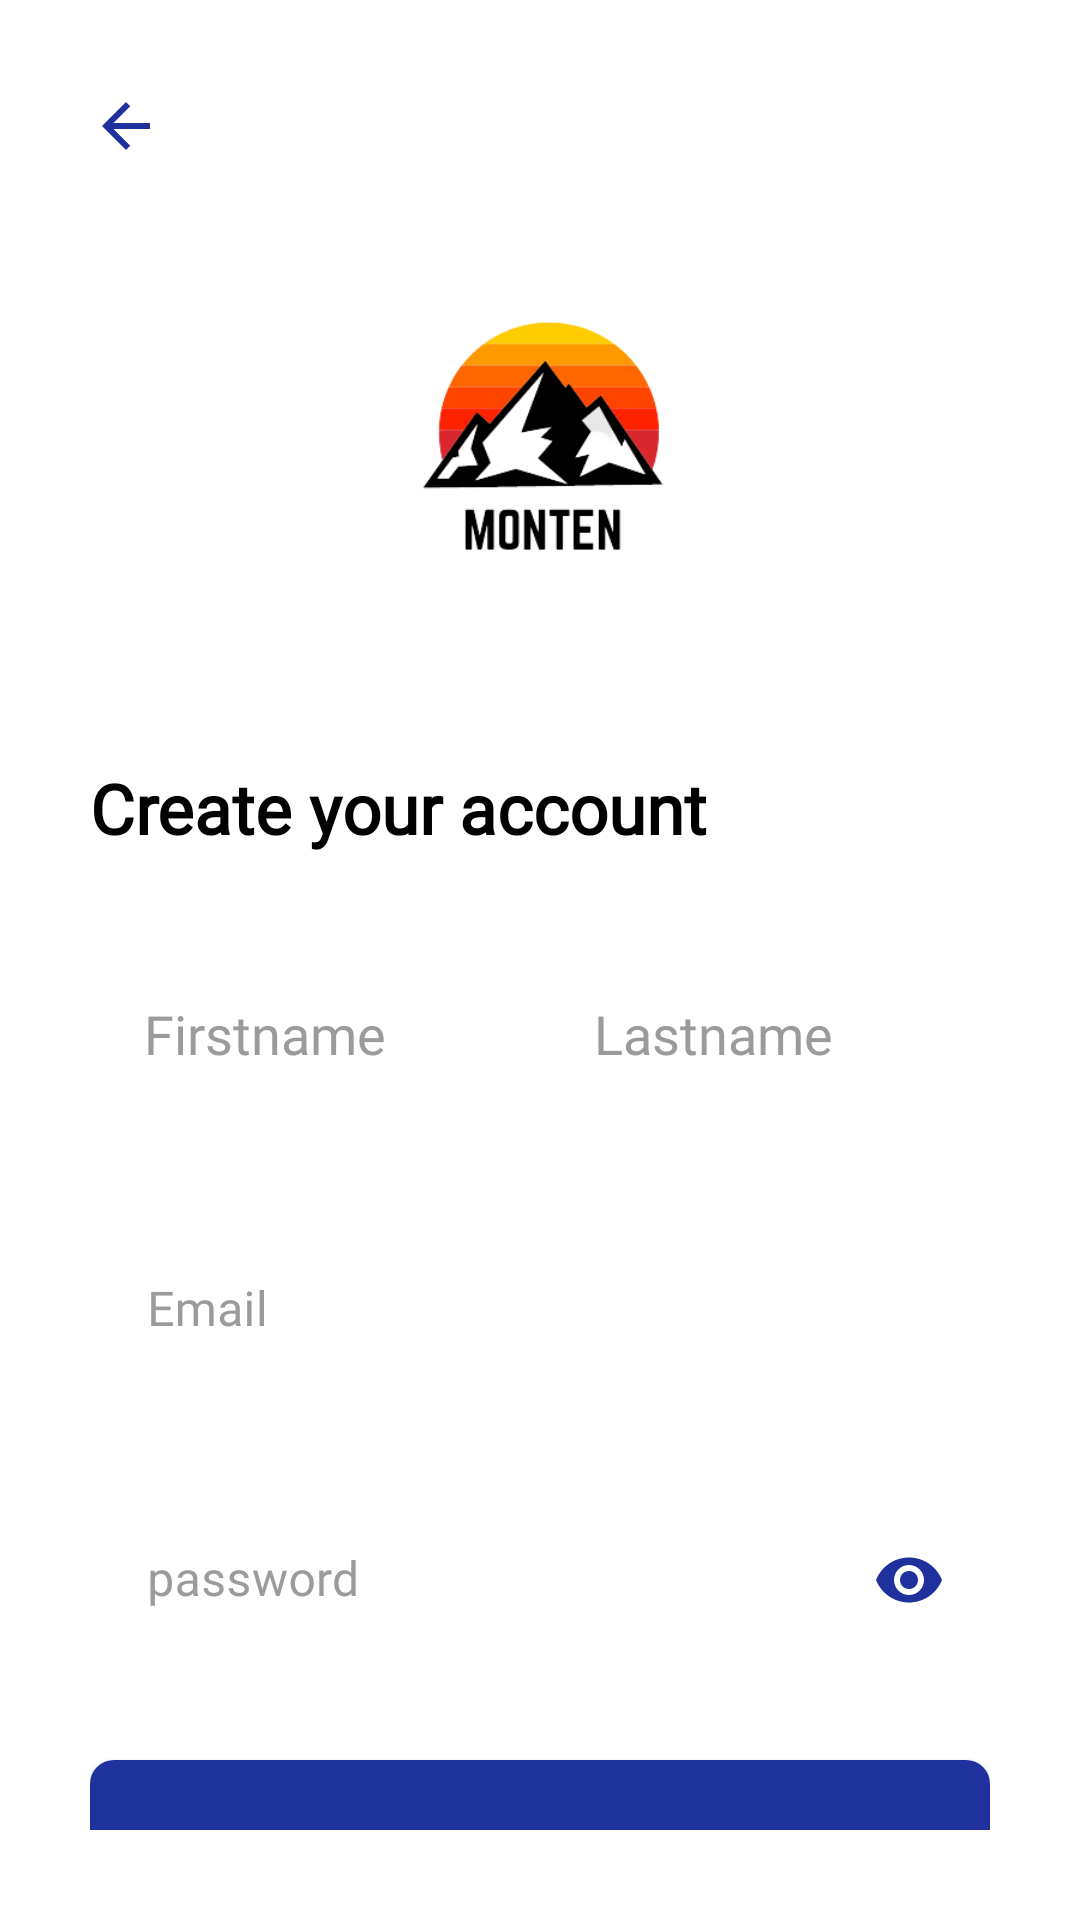

Where icons sit on this 1080 x 1920 app screen, as rect(x1, y1, x2, y2):
back: rect(102, 102, 150, 150)
